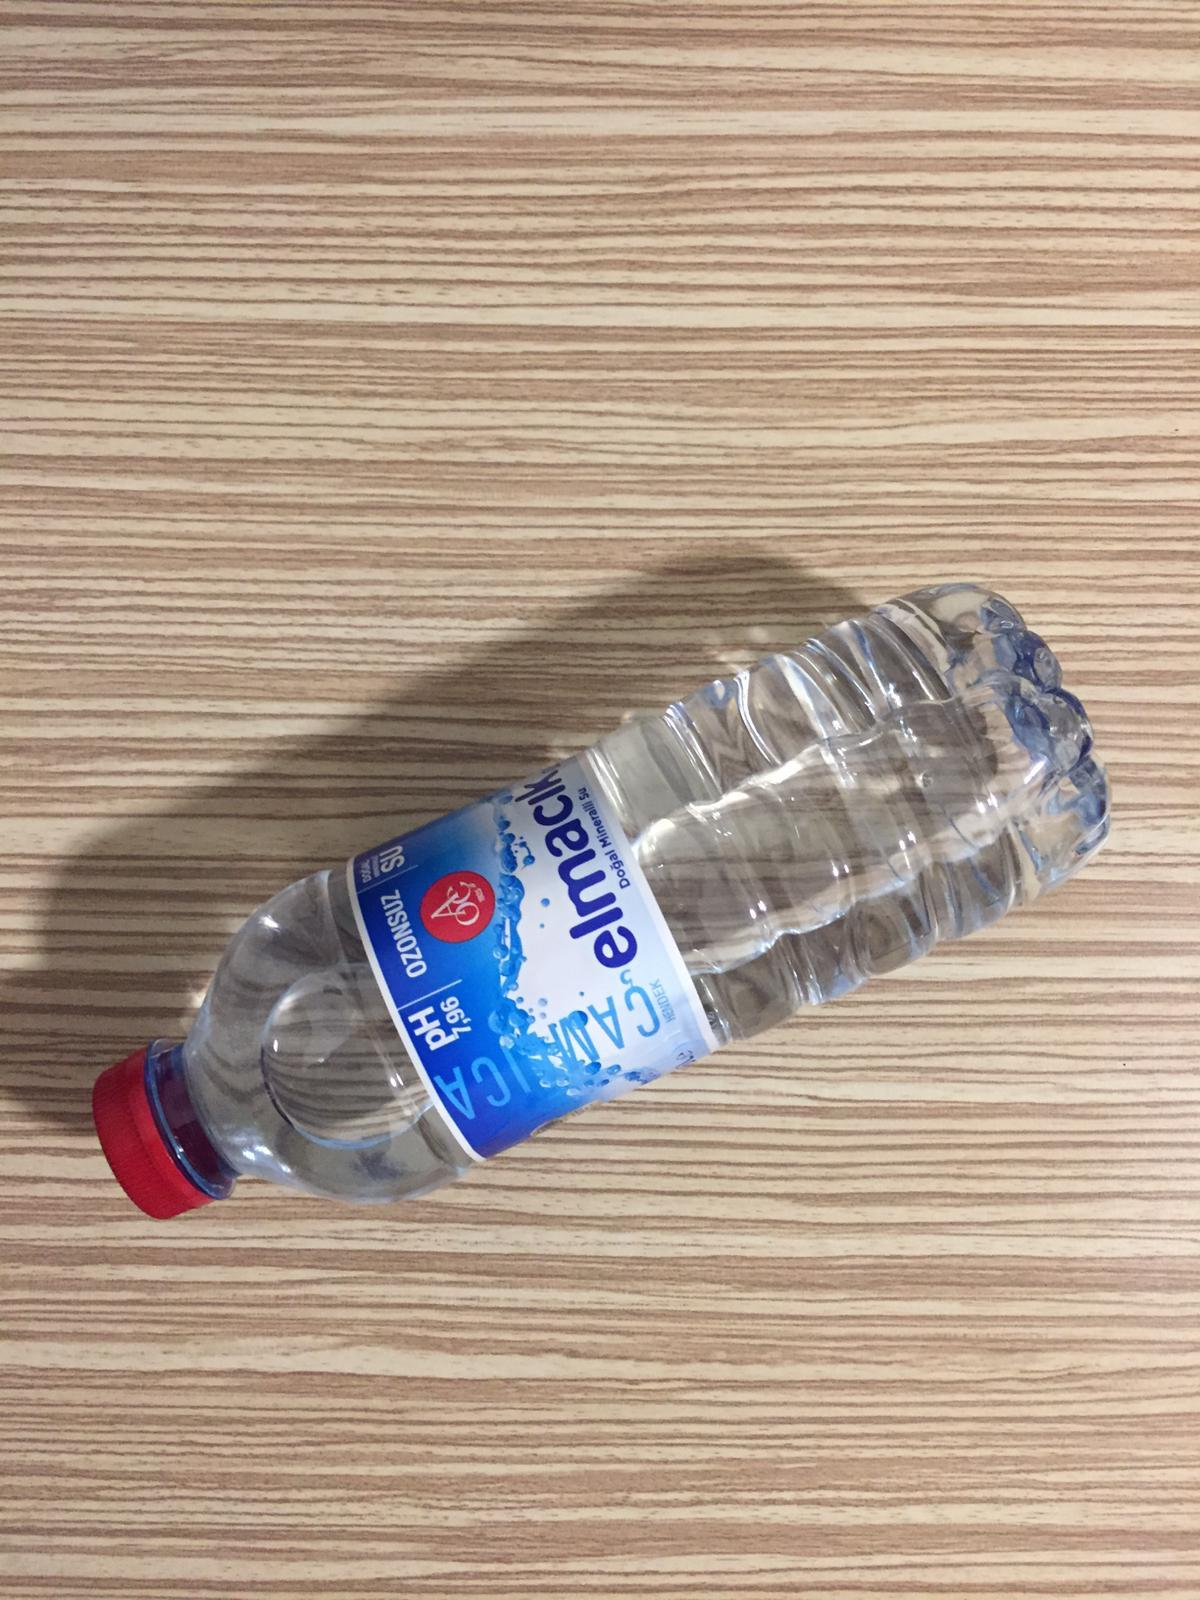bottle: (95, 578, 1117, 1220)
